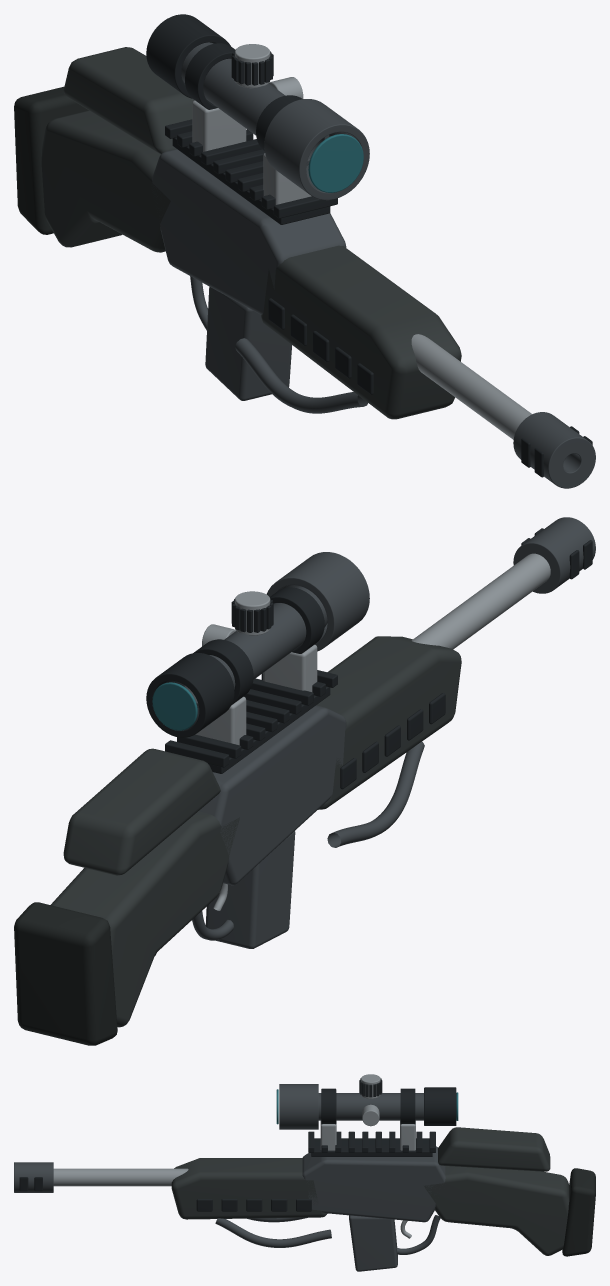
Rendered from sniper_prev.glb.
3 views of the same model, one above another, from view 1: azimuth 30°, elevation 25°; view 2: azimuth 150°, elevation 25°; view 3: azimuth 270°, elevation 25° (orthographic). The views are drawn at different scales.
Parts seen in each view (by area): view 1: Long forestock, Precision receiver, Adjustable stock, Cheek rest, Box magazine, Scope objective, Stock recoil pad, Heavy free floated barrel, Muzzle brake, Scope ocular, Scope main tube, Objective lens (+10 smaller); view 2: Adjustable stock, Precision receiver, Stock recoil pad, Long forestock, Cheek rest, Box magazine, Scope objective, Heavy free floated barrel, Scope ocular, Scope main tube, Muzzle brake, Folded bipod (+11 smaller); view 3: Adjustable stock, Precision receiver, Long forestock, Cheek rest, Heavy free floated barrel, Box magazine, Stock recoil pad, Scope main tube, Scope objective, Rail spine, Scope ocular, Folded bipod.001 (+8 smaller).
Part boxes in pixels (x1,y1,x2,y2): Long forestock: (261, 245, 461, 419); Precision receiver: (152, 149, 346, 314); Adjustable stock: (41, 110, 170, 252); Cheek rest: (63, 47, 194, 154); Box magazine: (205, 286, 291, 400); Scope objective: (264, 99, 369, 200); Stock recoil pad: (14, 86, 88, 234); Heavy free floated barrel: (411, 334, 531, 439); Muzzle brake: (513, 412, 595, 488); Scope ocular: (146, 14, 230, 98); Scope main tube: (181, 42, 329, 165); Objective lens: (308, 134, 363, 192); Adjustable stock: (50, 811, 239, 1027); Precision receiver: (198, 705, 346, 885); Stock recoil pad: (14, 902, 117, 1045); Long forestock: (316, 636, 461, 809); Cheek rest: (63, 748, 220, 875); Box magazine: (205, 831, 295, 948); Scope objective: (266, 552, 369, 651); Heavy free floated barrel: (411, 553, 550, 649); Scope ocular: (146, 653, 234, 737); Scope main tube: (180, 586, 327, 708); Muzzle brake: (513, 517, 595, 593); Folded bipod: (327, 741, 424, 847); Adjustable stock: (424, 1166, 569, 1255); Precision receiver: (302, 1146, 445, 1222); Long forestock: (171, 1158, 327, 1219); Cheek rest: (438, 1127, 550, 1171); Heavy free floated barrel: (53, 1168, 188, 1186); Box magazine: (349, 1215, 397, 1271); Stock recoil pad: (562, 1168, 595, 1256); Scope main tube: (318, 1093, 423, 1120); Scope objective: (279, 1084, 318, 1129); Rail spine: (311, 1138, 432, 1156); Scope ocular: (424, 1087, 456, 1125); Folded bipod.001: (215, 1218, 331, 1247).
Size of the model in its own units: 0.2859 by 0.8361 by 2.35.
